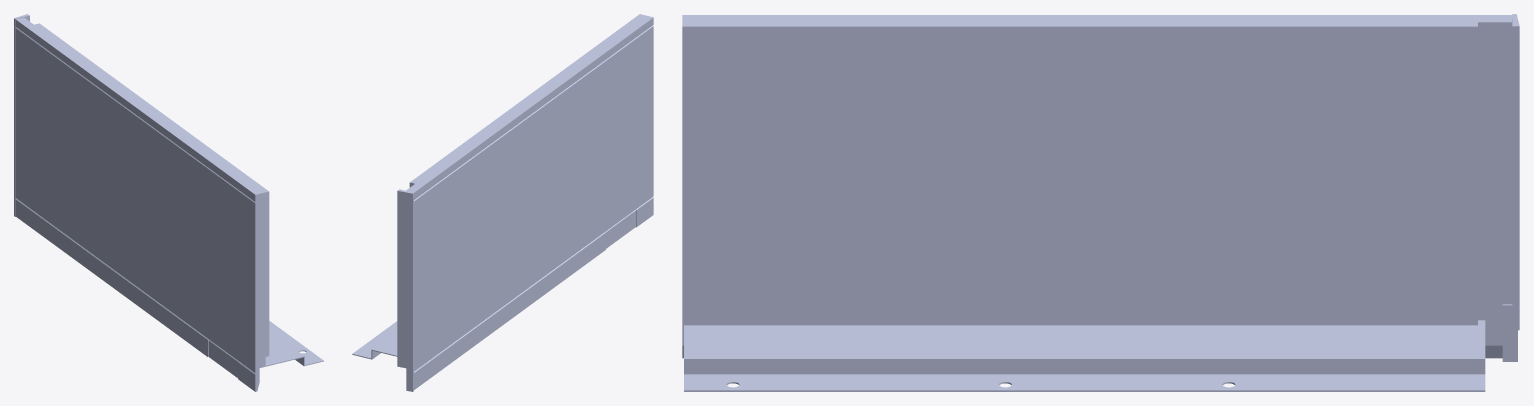
File: lg-kava-C400-p.glb
The picture shows the model from 3 angles, left to right: view 1: azimuth 30°, elevation 25°; view 2: azimuth 150°, elevation 25°; view 3: azimuth 270°, elevation 25°; orthographic projection. The views are drawn at different scales.
Visible parts, largest first — view 1: 44216209; view 2: 44216209; view 3: 44216209.
Part boxes in pixels (<box>): 44216209: <box>14,14,323,391</box>; 44216209: <box>352,14,653,391</box>; 44216209: <box>682,14,1519,391</box>.
Bounding box in the file's own units: 0.0653 × 0.1777 × 0.3935.
